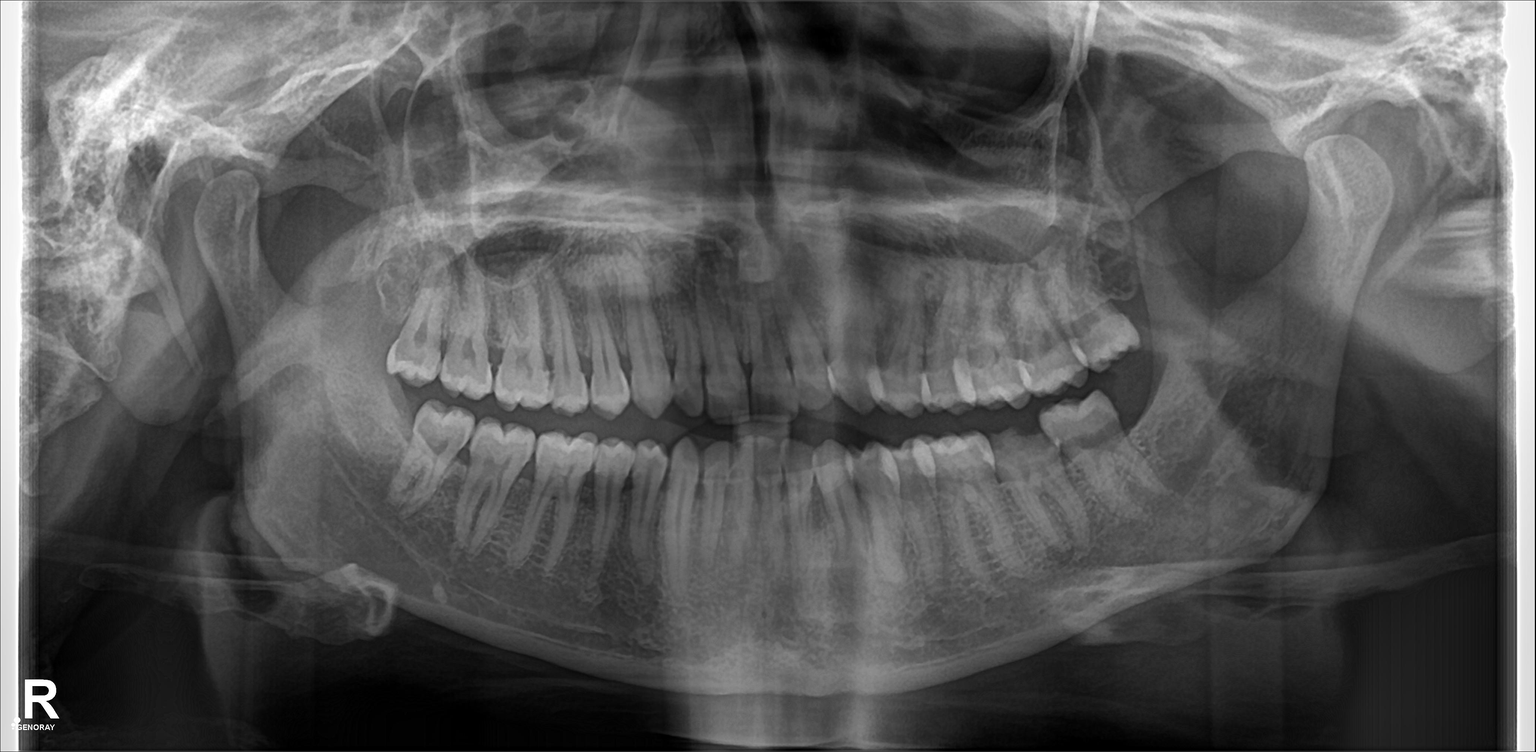Dental Caries: (991, 434, 1058, 474)
Missing Tooth: (1115, 369, 1177, 465)
